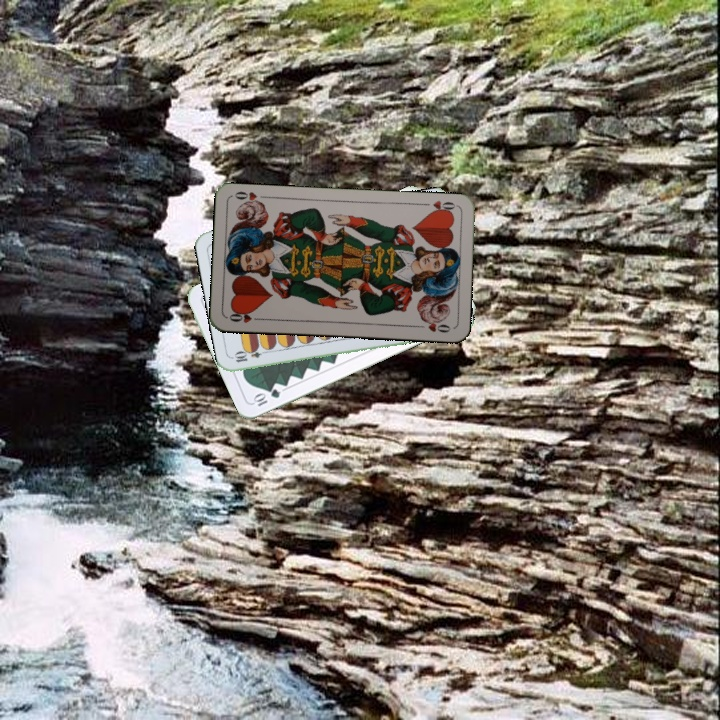E10: (231, 345, 271, 365)
G10: (249, 385, 283, 409)
HO: (418, 197, 459, 216), (225, 307, 265, 326)
